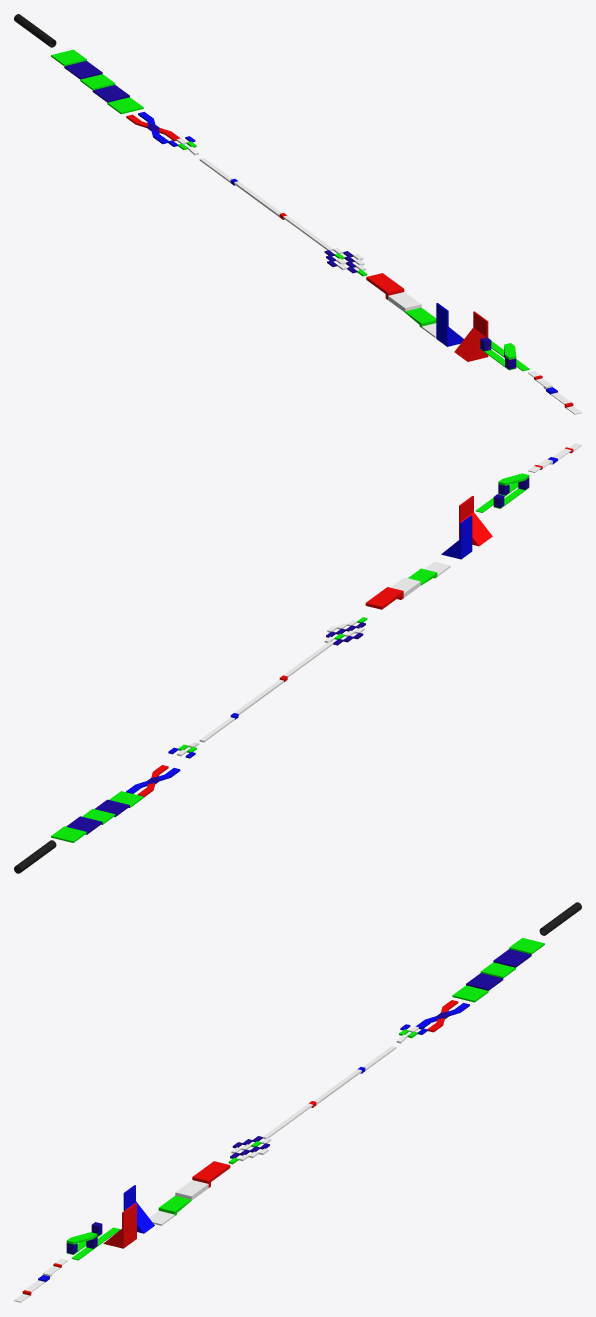
File: road6.obj
3 renders of one model, top to bottom at view 1: azimuth 30°, elevation 25°; view 2: azimuth 150°, elevation 25°; view 3: azimuth 330°, elevation 25°, orthographic.
Visible parts, largest first — view 1: Cube; view 2: Cube; view 3: Cube.
Boxes of the visible parts, x1=… form: Cube: x1=14, y1=14, x2=581, y2=414; Cube: x1=14, y1=443, x2=581, y2=873; Cube: x1=14, y1=902, x2=581, y2=1302.
Bounding box in the file's own units: 40.26 × 56.92 × 1282.
